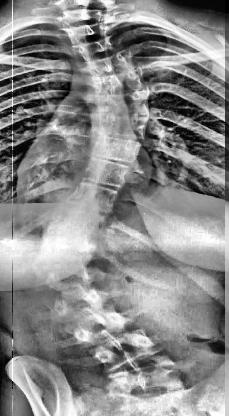Vertebrae: (88, 330, 172, 364), (65, 308, 136, 342), (26, 264, 102, 294), (30, 237, 98, 267), (83, 135, 148, 165), (46, 290, 114, 318), (94, 88, 156, 118), (61, 182, 121, 212), (76, 162, 136, 192), (92, 68, 154, 96), (92, 115, 158, 140), (45, 214, 105, 240), (86, 55, 144, 79), (76, 39, 124, 57), (66, 22, 110, 38), (60, 7, 104, 23)
